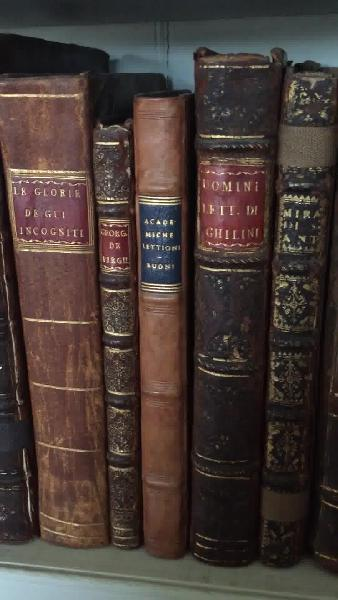Aa6-33: (7, 74, 109, 582)
Aa6-34: (82, 107, 141, 551)
Aa6-35: (131, 93, 189, 562)
Aa6-36: (192, 50, 262, 564)
Aa6-37: (261, 46, 327, 571)
